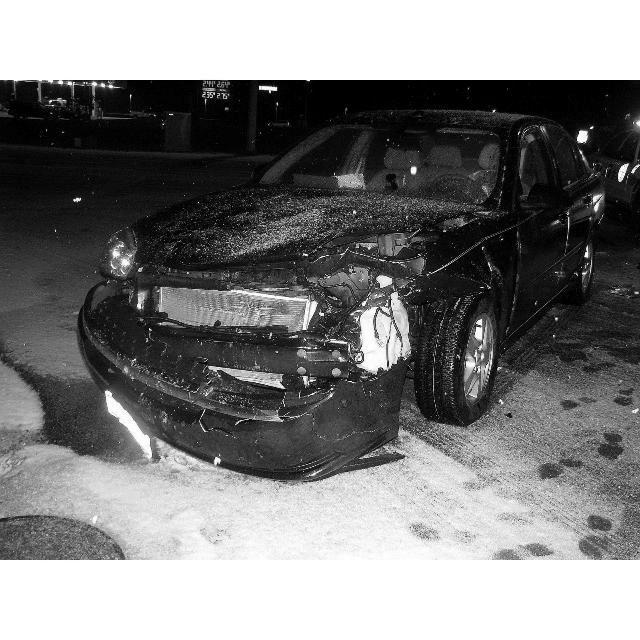bonnet-dent: (172, 164, 423, 286)
front-bumper-dent: (120, 350, 351, 449)
